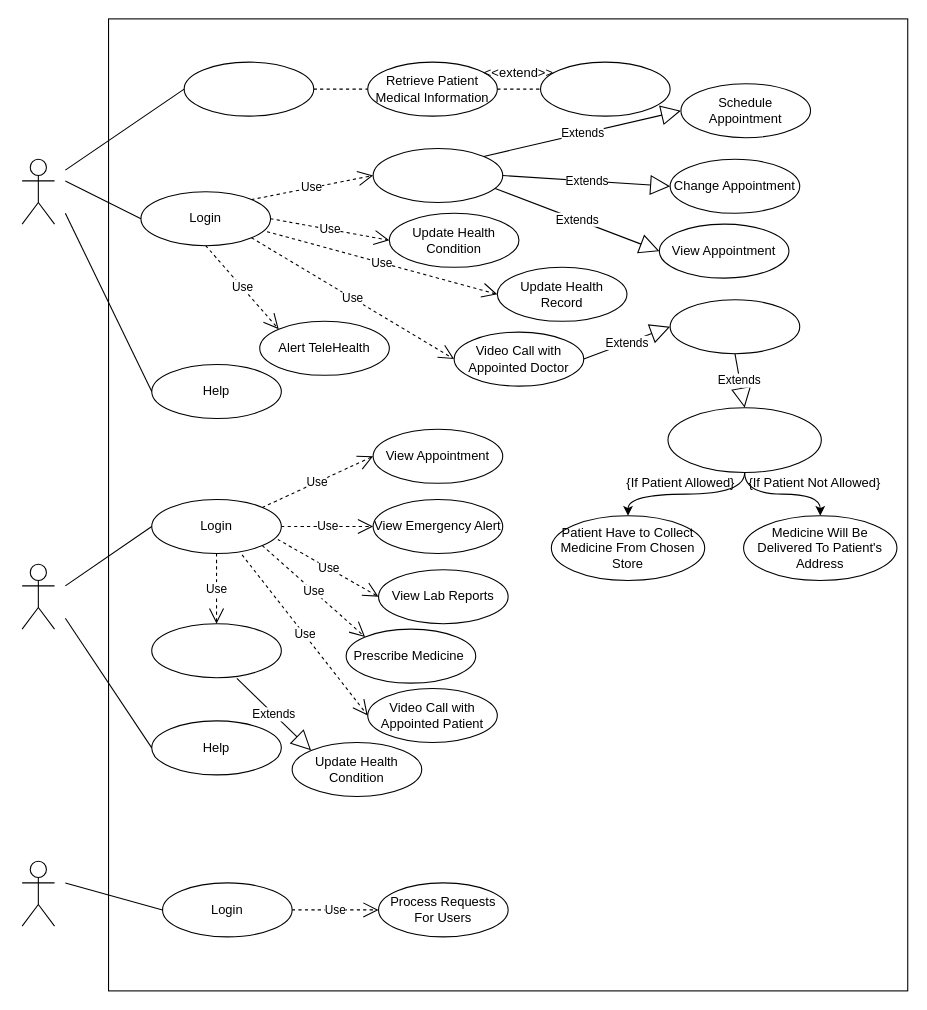
Some shapes in this 927 by 1010 pixel diagram are drawn without their labels. The centre of each missing label's shape, as x and y in pixels:
"Admin" goes at (38,893).
"Based On Patient Details Medical Store List Generated" goes at (744,440).
"Doctor" goes at (38,596).
"Manage Appointments" goes at (437,174).
"Patient" goes at (38,191).
"Process Call Details And Generate Report" goes at (734,326).
"Register Patient Information" goes at (604,88).
"Submit Medical Info" goes at (248,88).
"View Patient Data" goes at (216,650).
